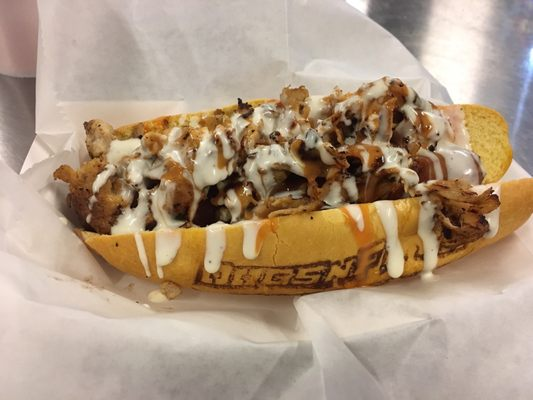burger: (51, 76, 513, 296)
